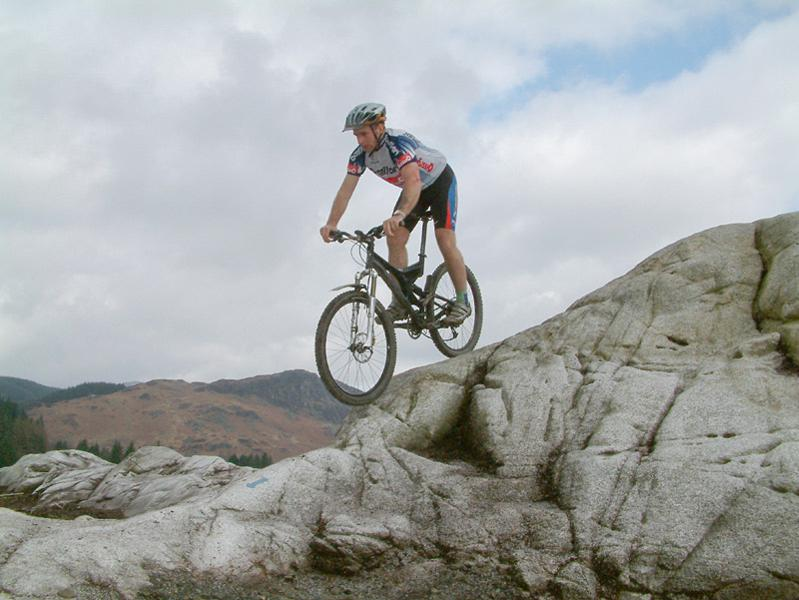person: (321, 102, 476, 333)
